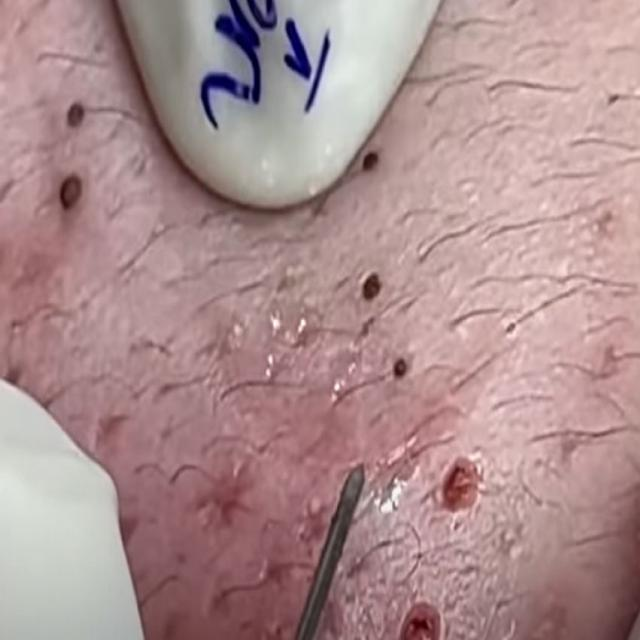dark spot: (47, 74, 96, 153), (357, 250, 398, 310), (56, 169, 91, 226), (384, 338, 416, 398), (360, 132, 384, 183)
